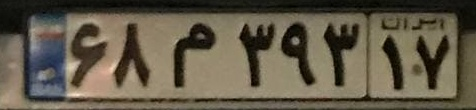character: (161, 14, 223, 96), (223, 13, 278, 96), (109, 14, 162, 98), (278, 12, 324, 99), (321, 12, 366, 96), (66, 16, 110, 98), (409, 30, 455, 98), (371, 30, 408, 95)
